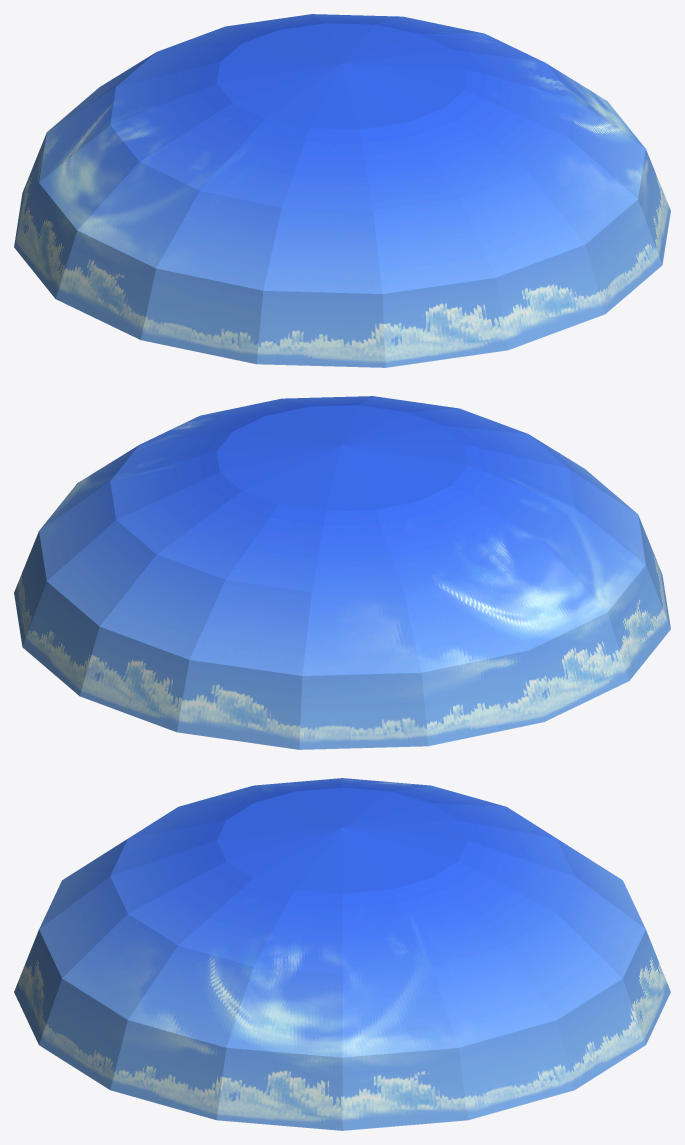
Rendered from PeFdAr01Zn01Env01.obj.
3 views of the same model, one above another, from view 1: azimuth 30°, elevation 25°; view 2: azimuth 150°, elevation 25°; view 3: azimuth 270°, elevation 25° (orthographic).
Visible parts, largest first — view 1: polygon28; view 2: polygon28; view 3: polygon28.
Part boxes in pixels (x1=…): polygon28: x1=14, y1=14, x2=670, y2=367; polygon28: x1=14, y1=396, x2=670, y2=749; polygon28: x1=14, y1=778, x2=670, y2=1130.
Size of the model in its own units: 15080 by 5329 by 15080.
11 materials, 11 textured.
